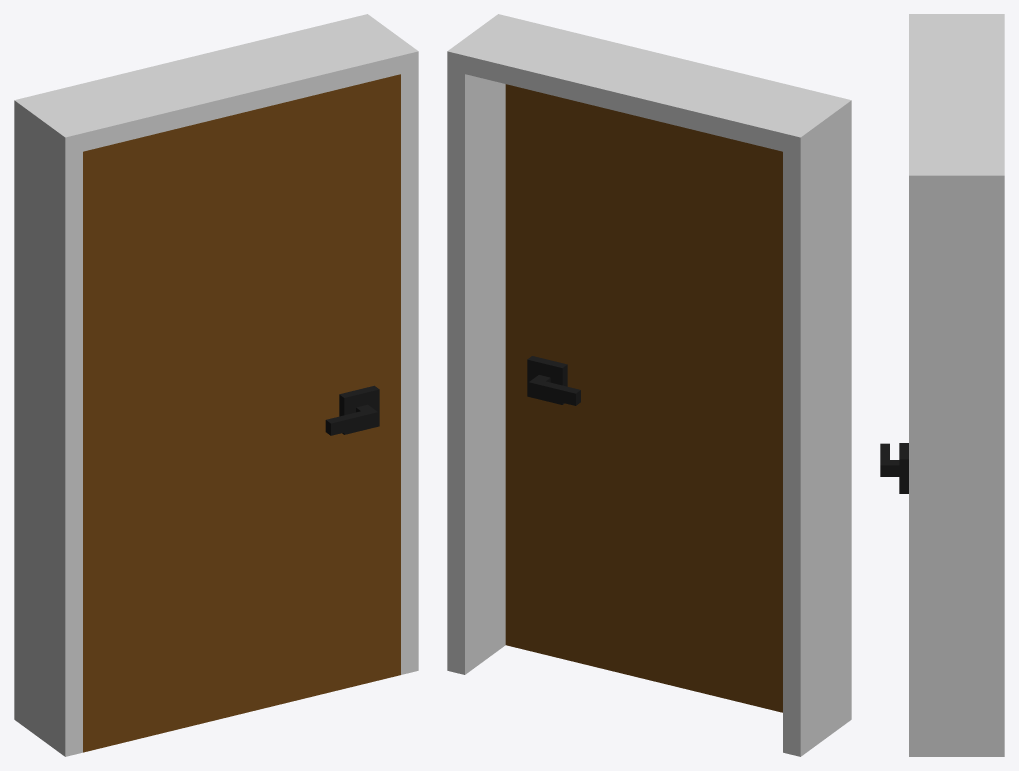
Rendered from classic_door.glb.
The picture shows the model from 3 angles, left to right: view 1: azimuth 30°, elevation 25°; view 2: azimuth 150°, elevation 25°; view 3: azimuth 270°, elevation 25°; orthographic projection. The views are drawn at different scales.
Parts seen in each view (by area): view 1: Door, Frame, Door_handle; view 2: Door, Frame, Door_handle.001; view 3: Frame, Door_handle.
Boxes of the visible parts, x1,y1,x2,y2 form: Door: (83, 74, 400, 752); Frame: (14, 14, 418, 756); Door_handle: (325, 385, 379, 435); Door: (505, 84, 782, 712); Frame: (447, 14, 851, 756); Door_handle.001: (527, 356, 580, 405); Frame: (909, 14, 1004, 756); Door_handle: (880, 443, 908, 493).
Bounding box in the file's own units: 2 × 3.35 × 0.65.
